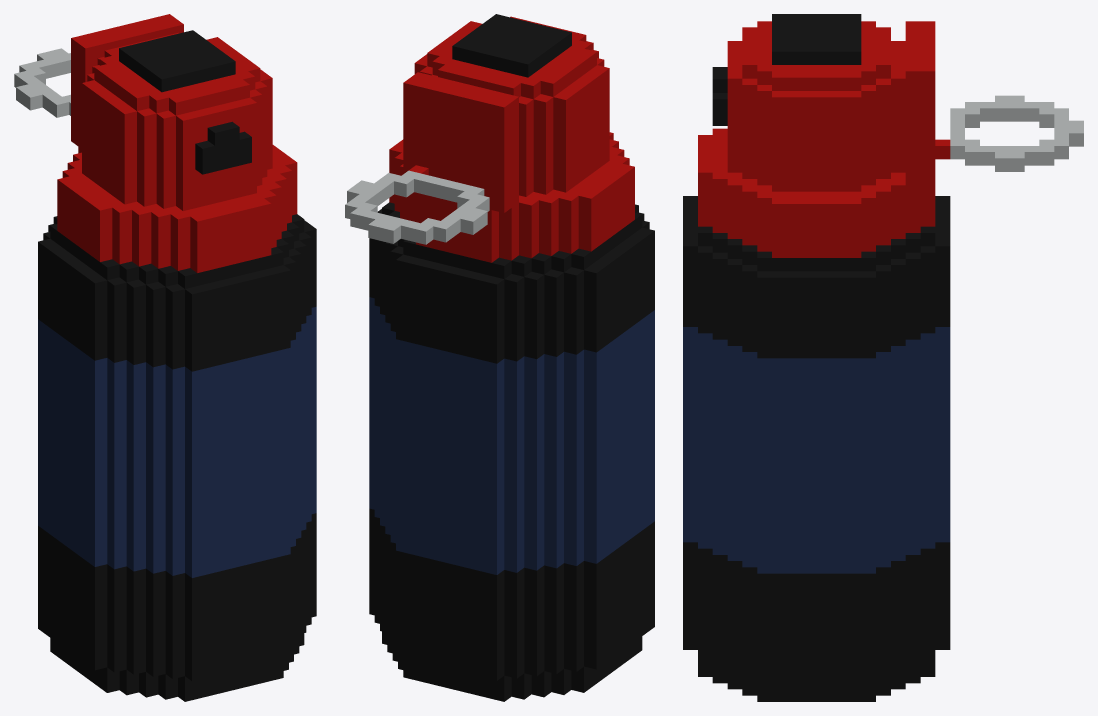
File: teargas_sprayer.glb
3 views of the same model, side by side, from view 1: azimuth 30°, elevation 25°; view 2: azimuth 150°, elevation 25°; view 3: azimuth 270°, elevation 25° (orthographic). The views are drawn at different scales.
Parts seen in each view (by area): view 1: teargas_sprayer:compound; view 2: teargas_sprayer:compound; view 3: teargas_sprayer:compound.
Part boxes in pixels (x1,y1,x2,y2): teargas_sprayer:compound: (14, 14, 316, 701); teargas_sprayer:compound: (345, 14, 654, 701); teargas_sprayer:compound: (683, 14, 1083, 701).
Bounding box in the file's own units: 0.036 × 0.092 × 0.054.
